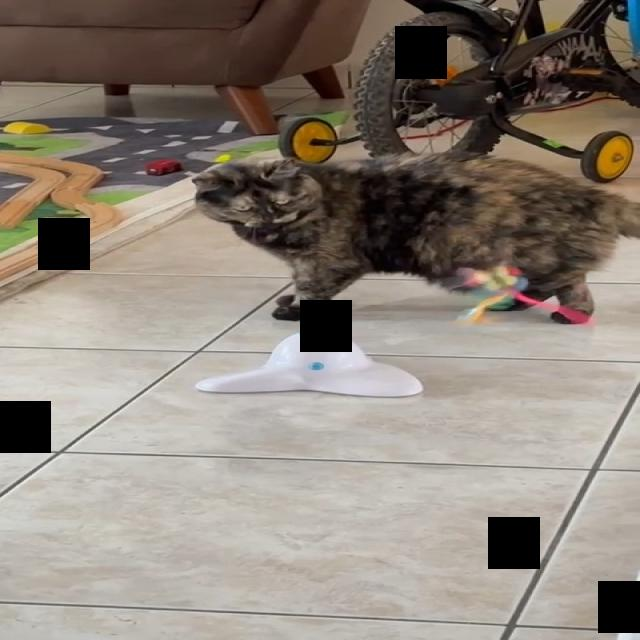authorized: (189, 150, 639, 324)
